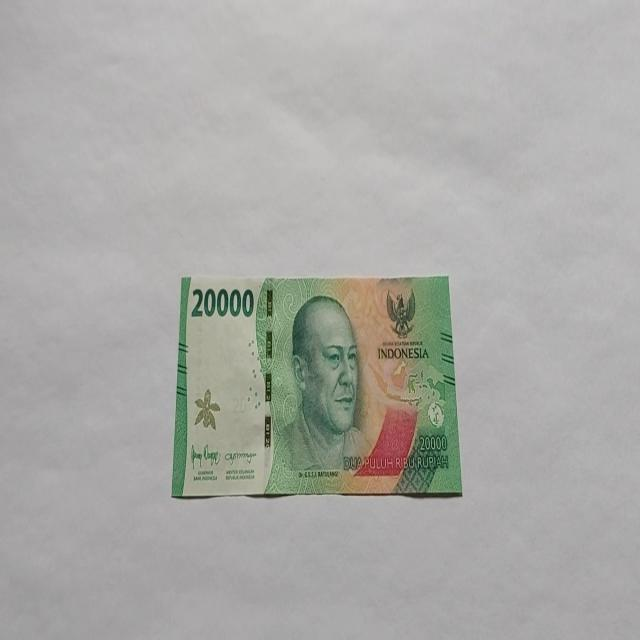dua puluh ribu rupiah: (171, 272, 463, 500)
